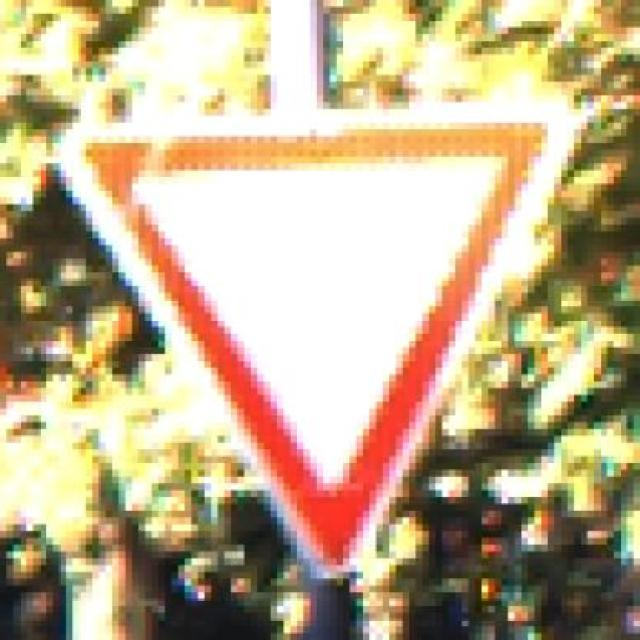Give Way: (46, 55, 614, 579)
